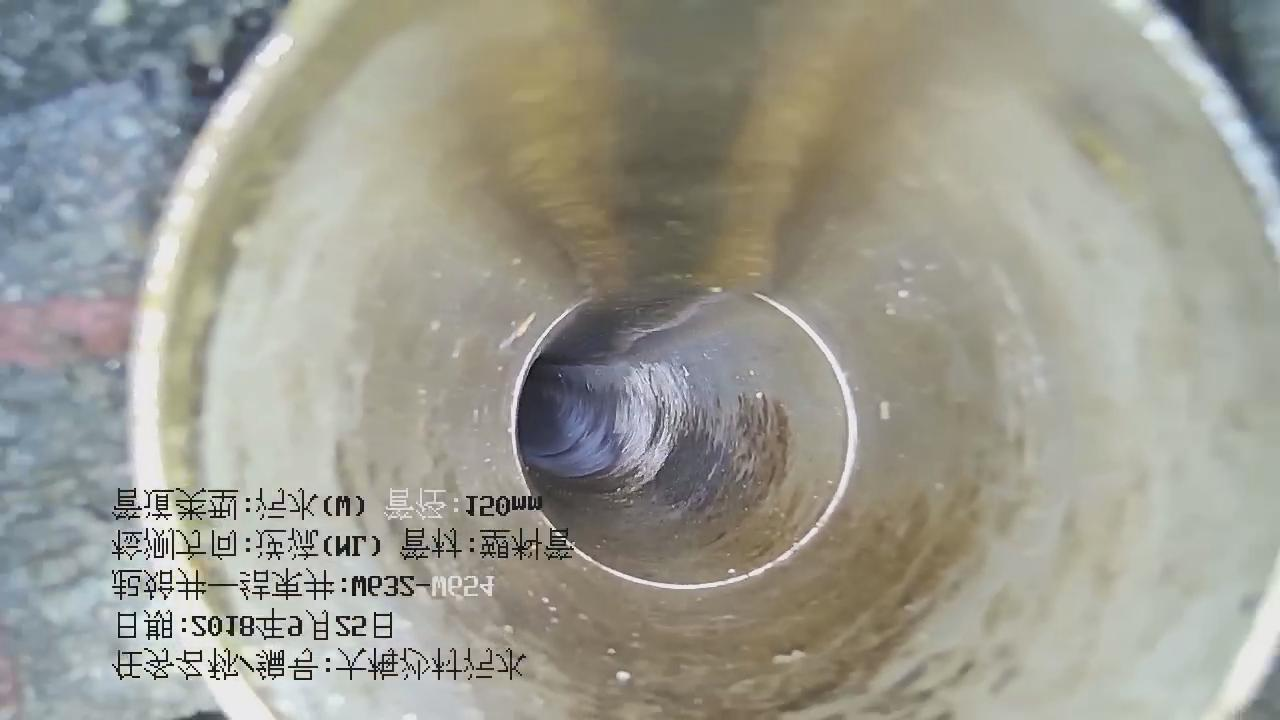CKTJ: (503, 283, 865, 593)
